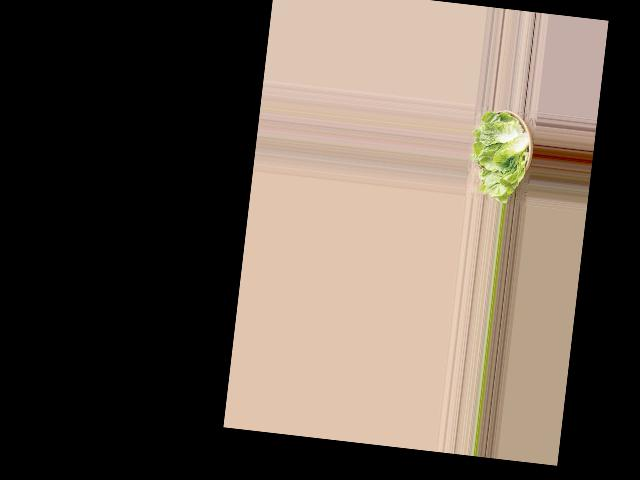lettuce: (467, 103, 537, 204)
